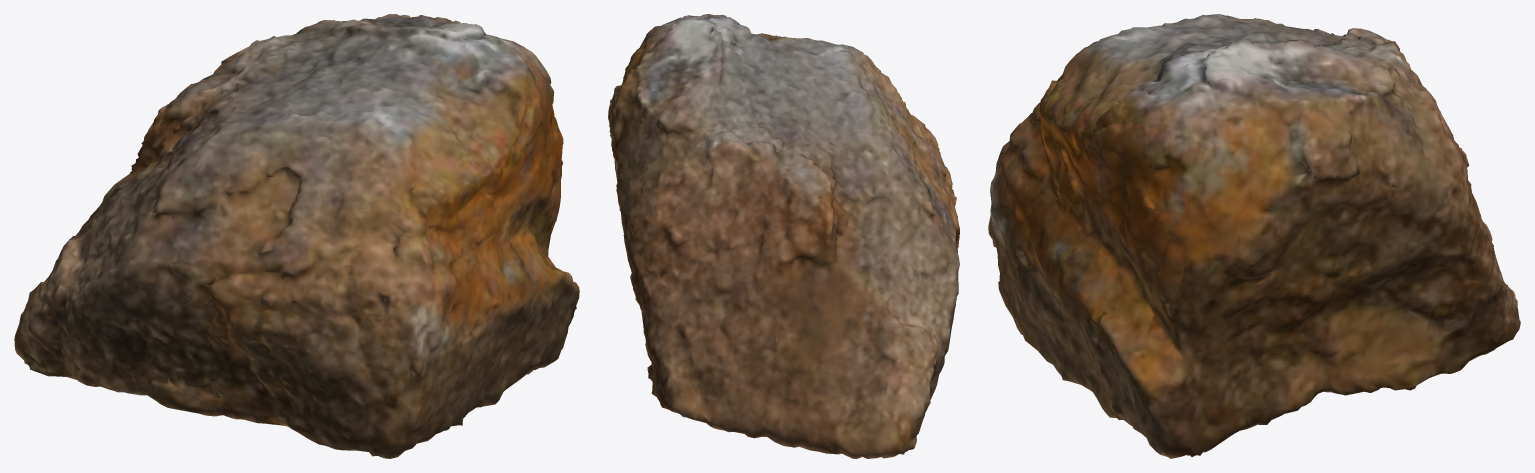
The model's file is namaqualand_boulder_04_lod1.glb.
3 renders of one model, left to right at view 1: azimuth 30°, elevation 25°; view 2: azimuth 150°, elevation 25°; view 3: azimuth 270°, elevation 25°, orthographic. The views are drawn at different scales.
Visible parts, largest first — view 1: boulder_04; view 2: boulder_04; view 3: boulder_04.
Boxes of the visible parts, x1,y1,x2,y2 form: boulder_04: [14, 14, 579, 458]; boulder_04: [608, 14, 959, 458]; boulder_04: [988, 14, 1520, 458].
Bounding box in the file's own units: 2.52 × 1.9 × 2.5.
1 material, 1 textured.
